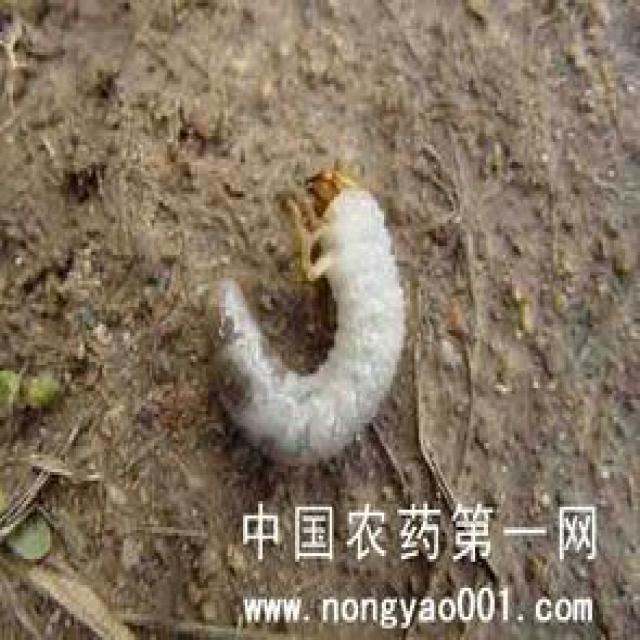Grub-Adult-: (185, 158, 419, 490)
